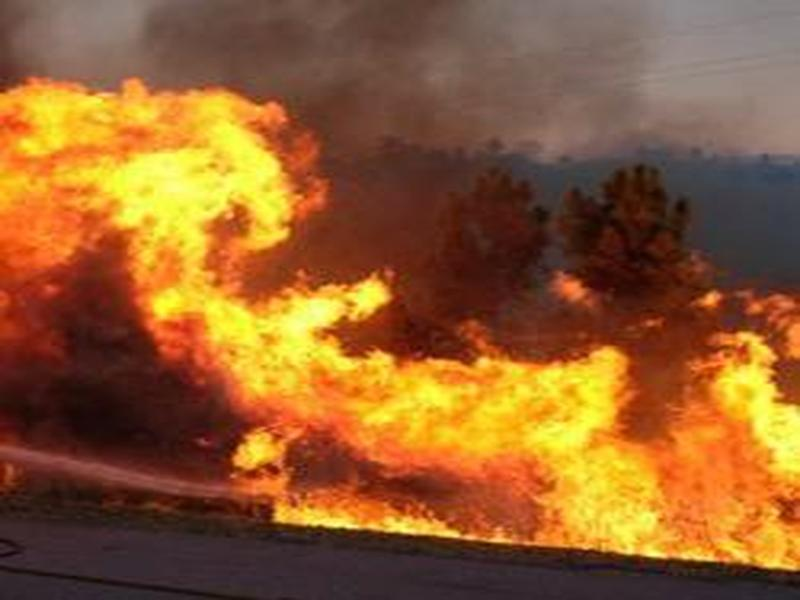FIRE: (45, 76, 800, 596)
